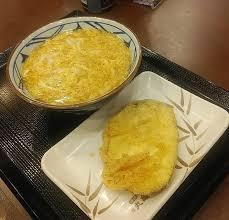satumaimo: (110, 101, 173, 194)
